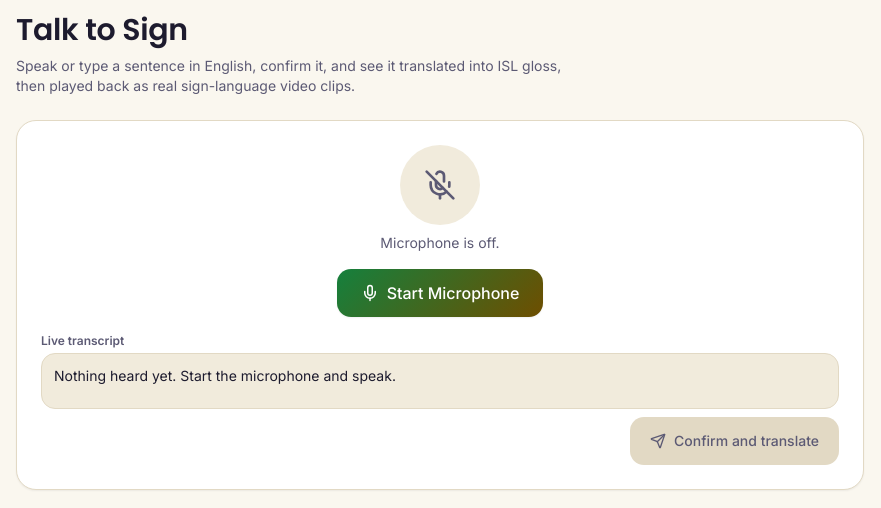
Test case: SoundSignsClient › starts and stops the microphone lifecycle on explicit button presses
Click the button "Start Microphone": (440, 293) [337,269,543,317]
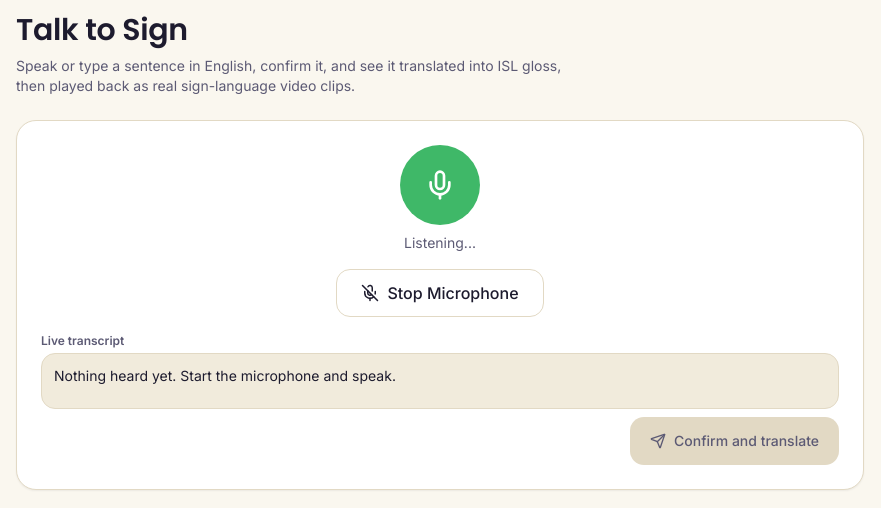
Check: the text "Listening..." is shown, box [404,233,476,253]
Click the button "Stop Microphone": (440, 293) [336,269,544,317]
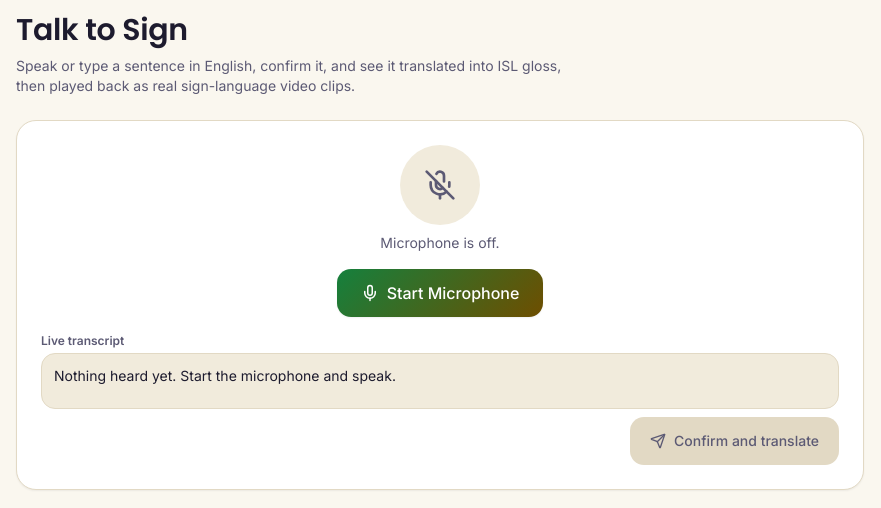
Check: the text "Microphone is off." is shown, box [380,233,500,253]
